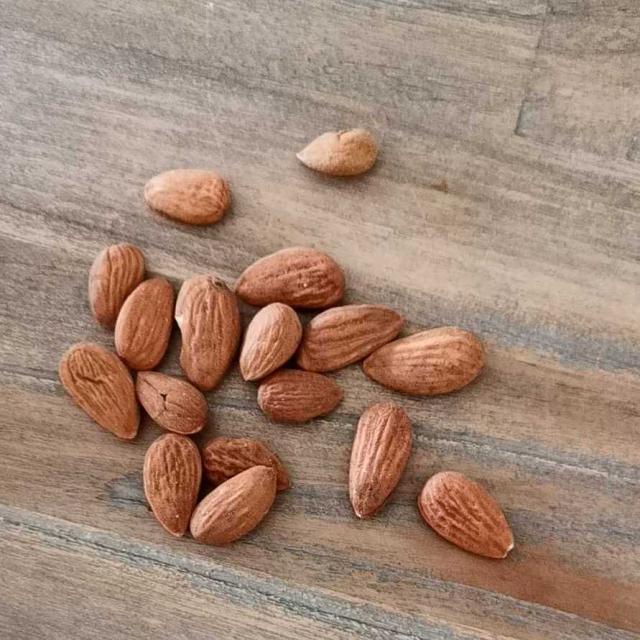almonds: (52, 129, 548, 584)
